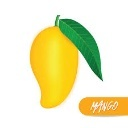mango: (29, 26, 79, 108)
